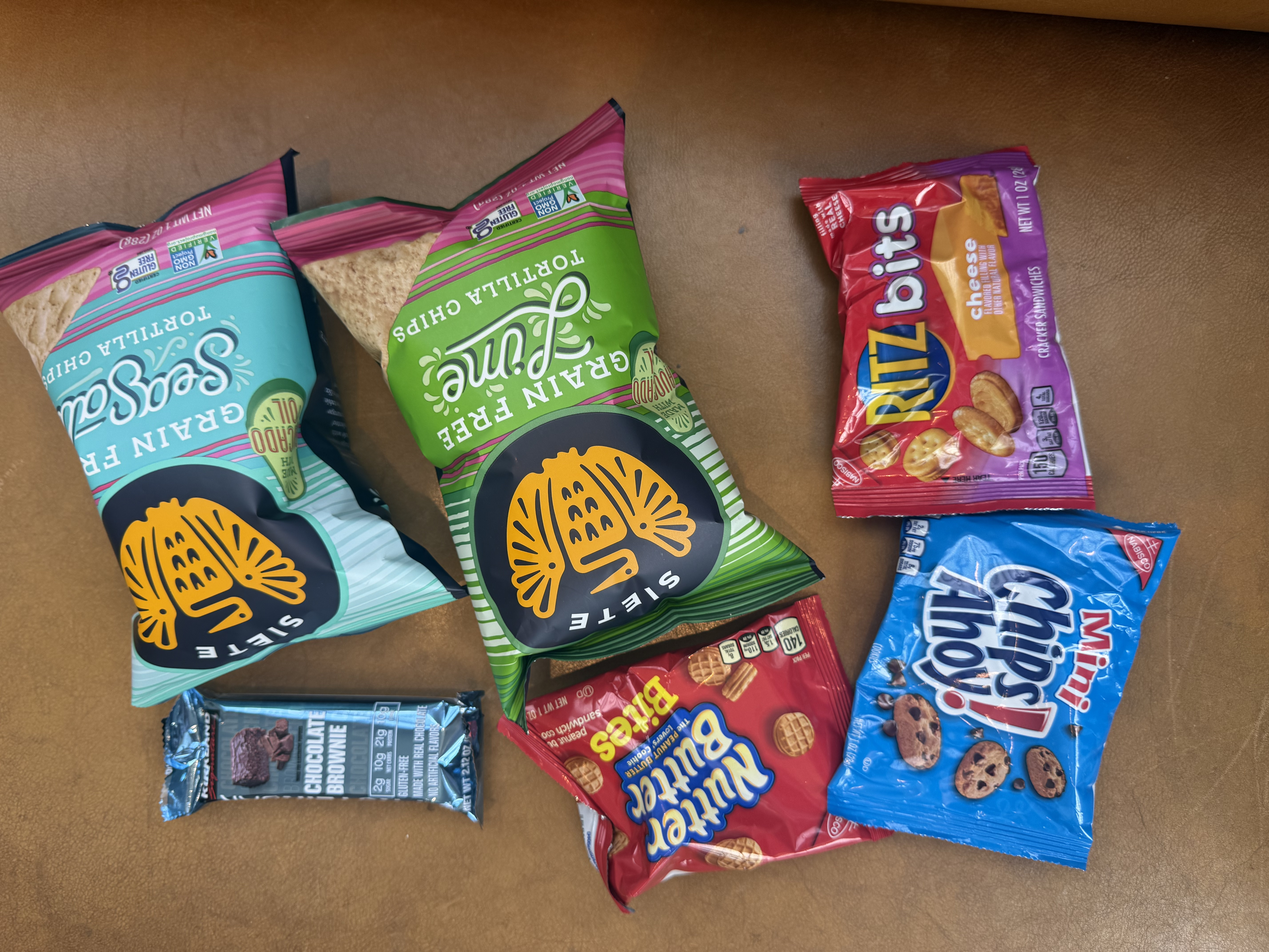chips_ahoy: (920, 480, 1156, 834)
chocolate_brownie: (165, 692, 483, 817)
lime: (334, 247, 636, 724)
nutter_butter: (510, 715, 850, 946)
ritz_cheese: (802, 175, 1064, 513)
sea_salt: (2, 270, 266, 741)
